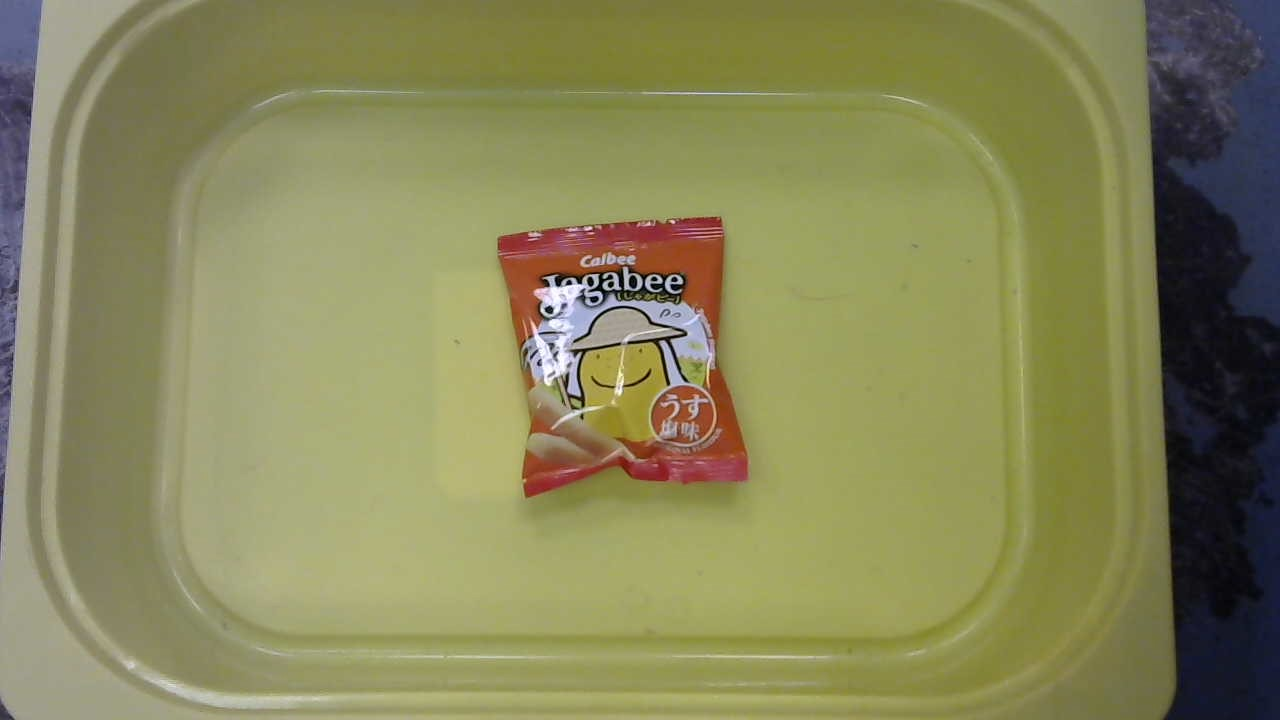JagabeeFarmer: (492, 212, 753, 509)
